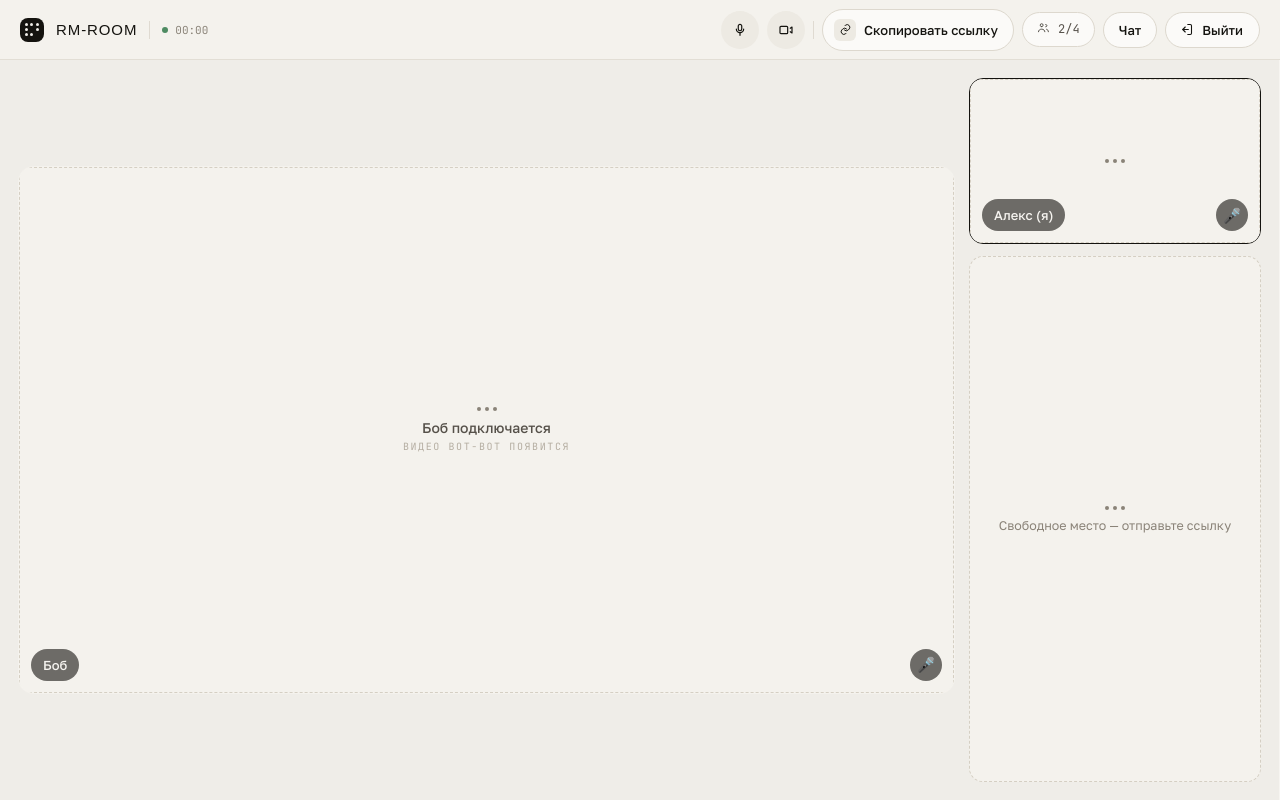
Test: RoomScreen (Design §4.2/§5.3/§7.1, критерий приёмки задачи 24) › Задача 41 — сворачиваемая панель Чат/Участники (addendum §5.4, критерий приёмки) › переключение на вкладку «Участники» при открытой панели — новое сообщение снова инкрементирует бейдж; возврат на «Чат» сбрасывает его
Step 1. Click the button with test id "chat-toggle-button" → (1130, 30), box [1103, 12, 1157, 48]
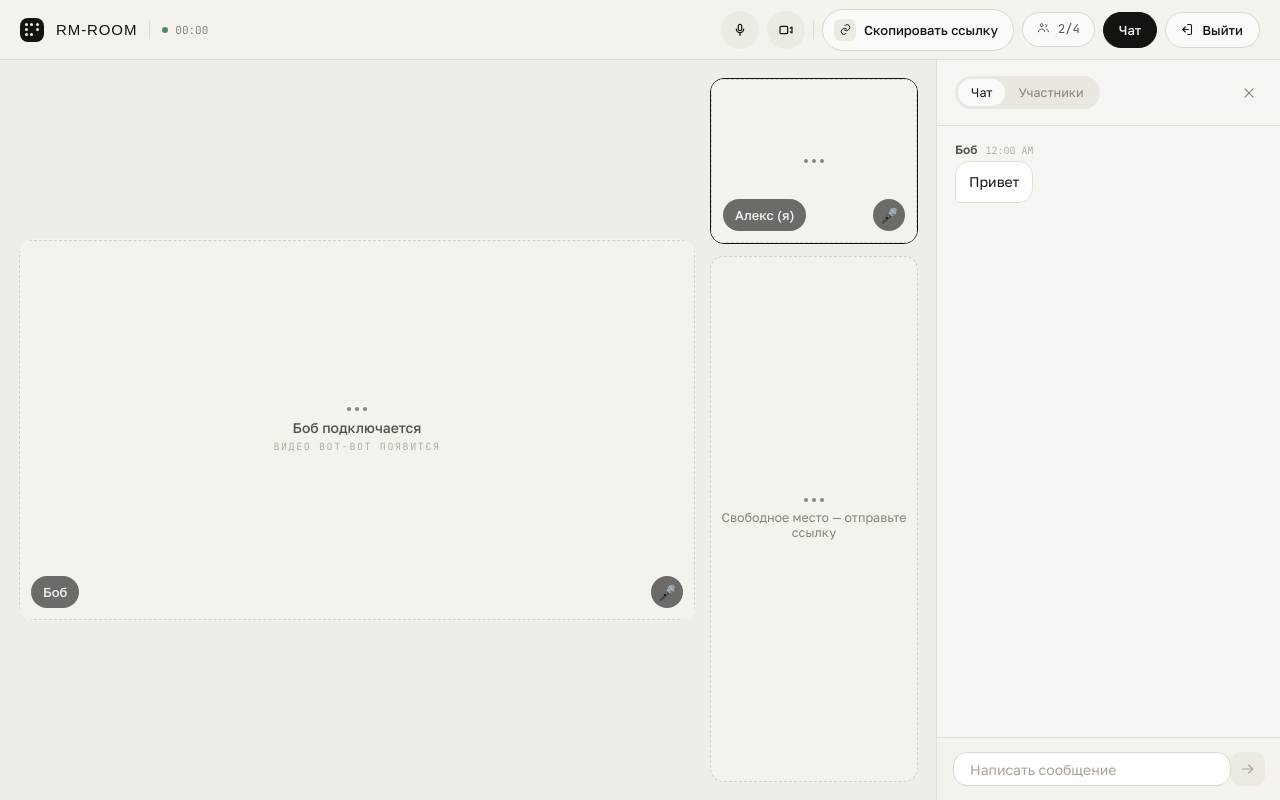
Step 2. Click the tab with test id "chat-side-panel-tab-participants" → (1051, 92), box [1006, 79, 1097, 106]
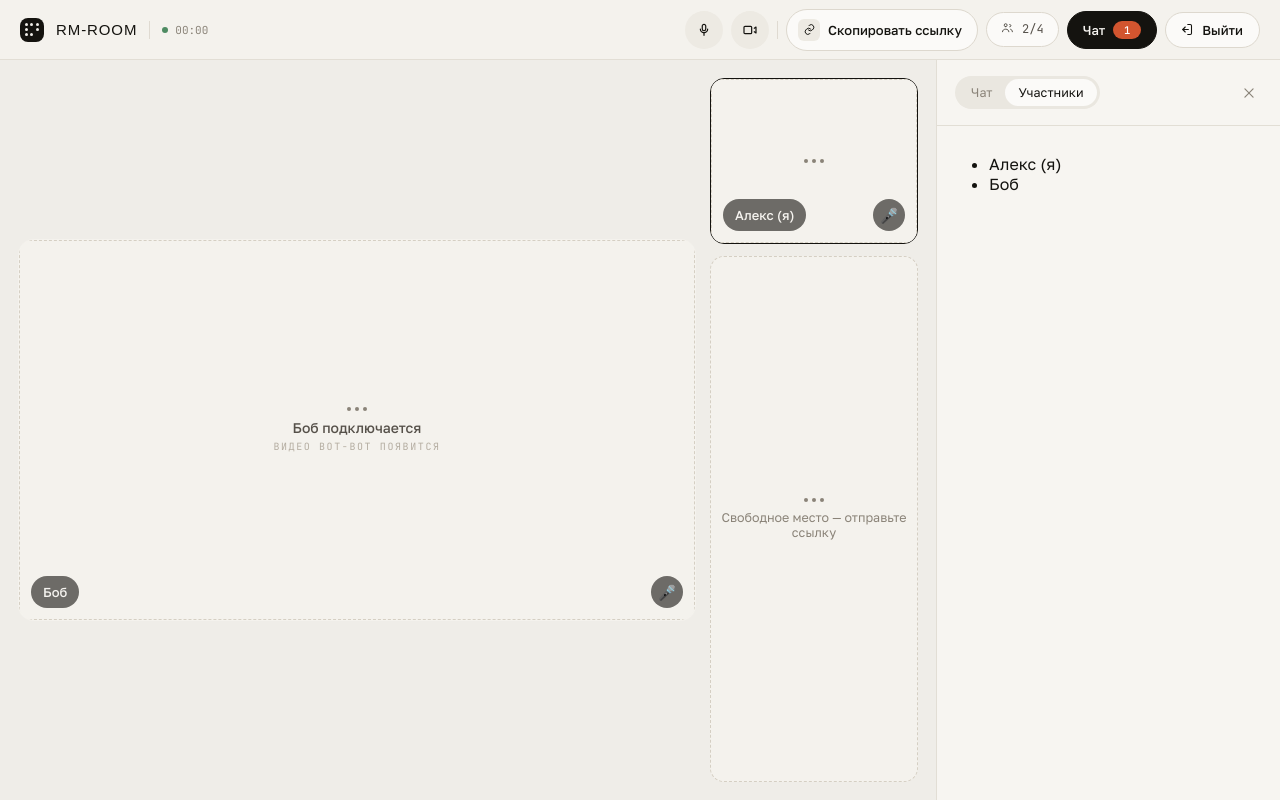
Expected: the text with test id "chat-unread-badge" reads "1", [1124, 22, 1130, 36]
Step 3. Click the tab with test id "chat-side-panel-tab-chat" → (982, 92), box [958, 79, 1006, 106]
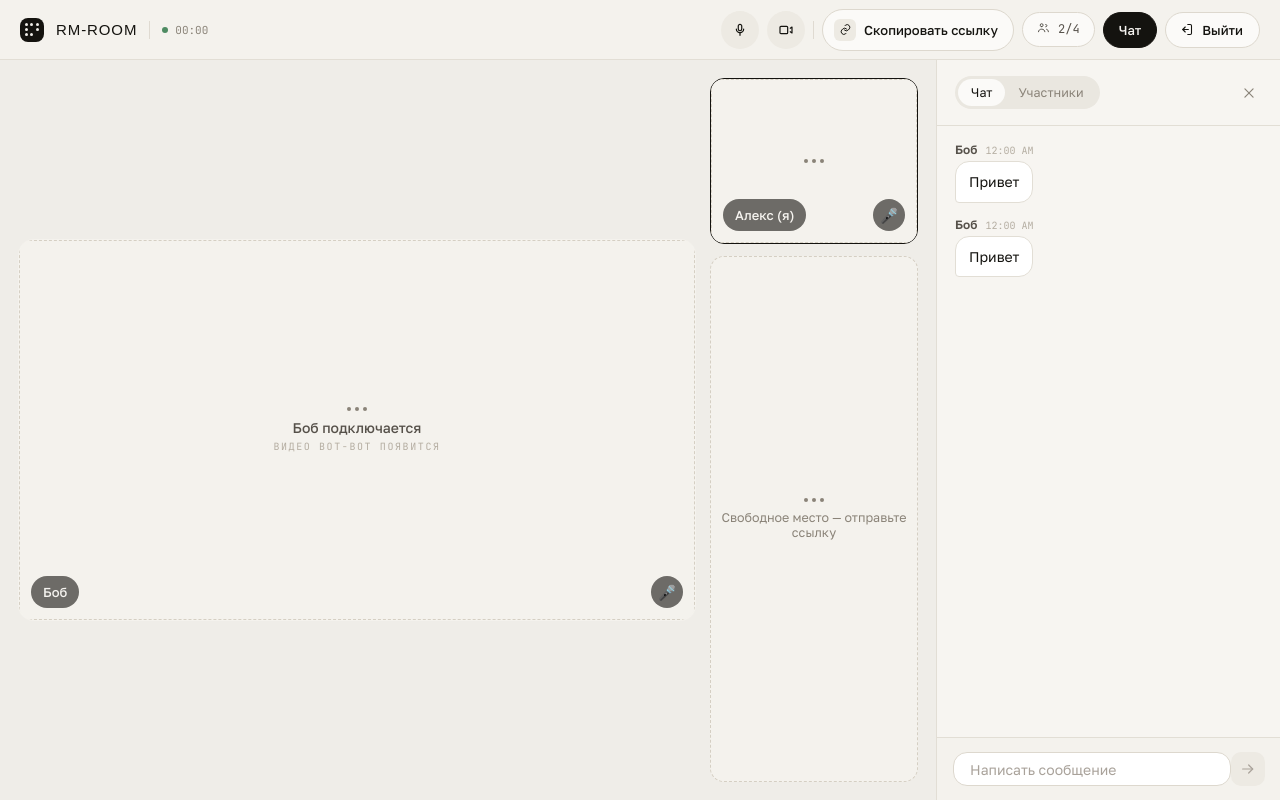
Result: the text with test id "chat-unread-badge" is gone
